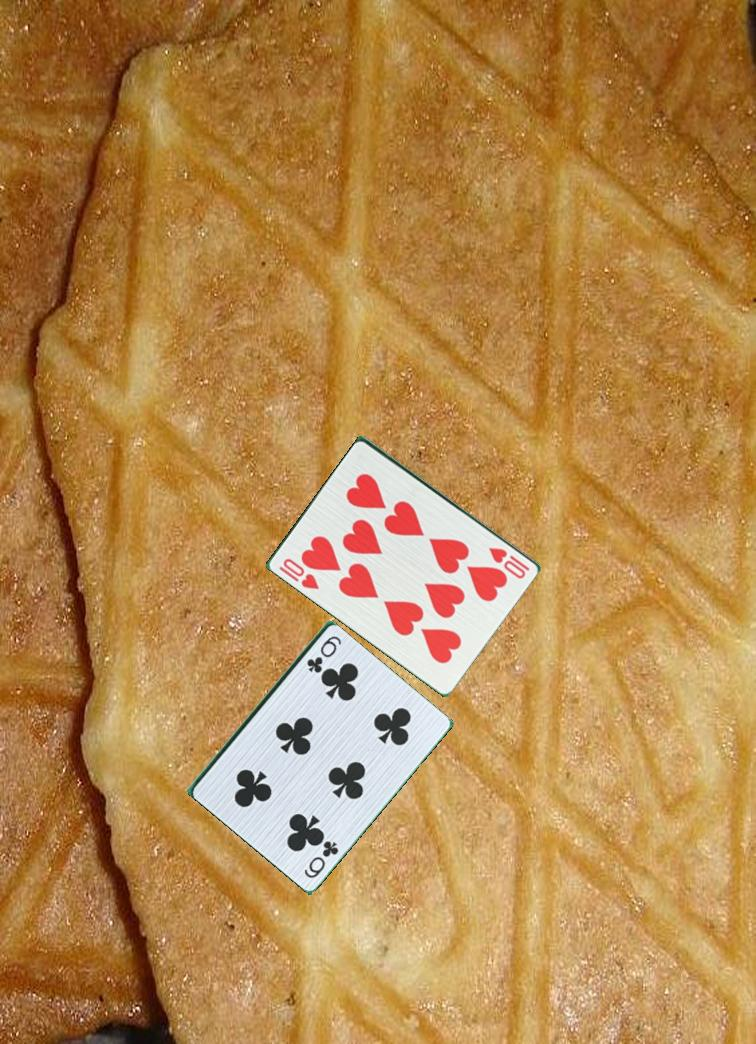6c: (294, 832, 342, 881), (303, 632, 343, 675)
th: (485, 543, 533, 582), (276, 554, 323, 593)
